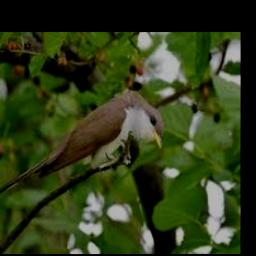Cuckoo: (0, 89, 162, 196)
